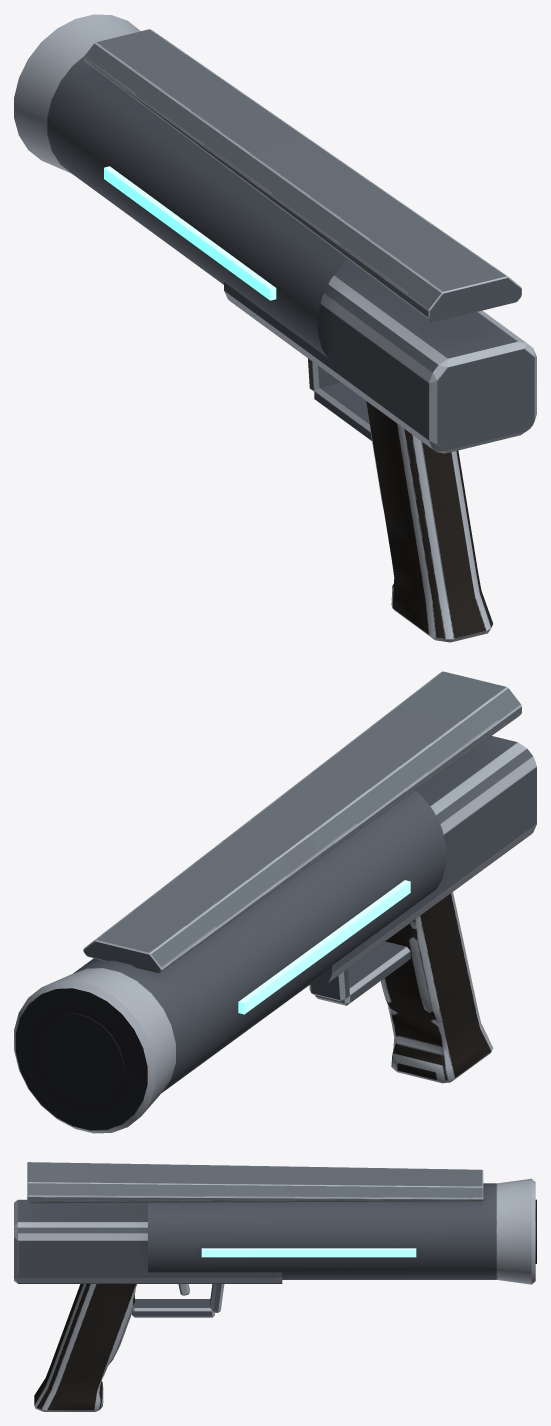
3 views of the same model, one above another, from view 1: azimuth 30°, elevation 25°; view 2: azimuth 150°, elevation 25°; view 3: azimuth 270°, elevation 25° (orthographic). The views are drawn at different scales.
Parts seen in each view (by area): view 1: body; view 2: body; view 3: body.
Boxes of the visible parts, <box> form: body: <box>14,14,536,642</box>; body: <box>14,671,536,1133</box>; body: <box>14,1162,536,1411</box>.
Size of the model in its own units: 0.0785 by 0.19 by 0.39.
Materials: 1 (1 with a texture image).
